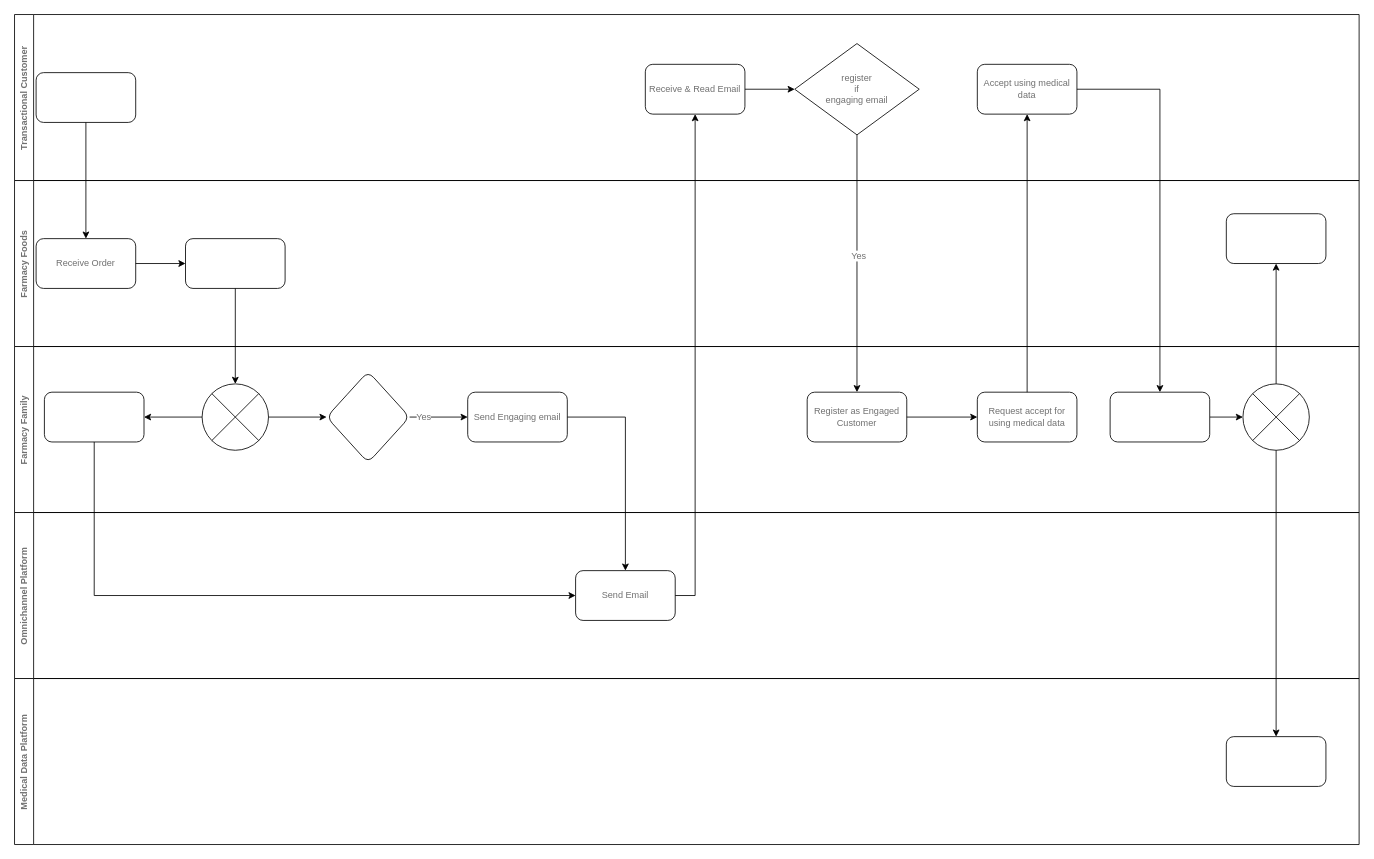
This 1374x859 diagram has some shape labels left out. The shapes that lost their labels are listed below. From the top down, each one's centre as x and y in pixels, then its label:
point 85,97: Make an order
point 1275,238: Notify about Customer's engaging
point 235,263: Notify about Customer's order
point 94,416: Send Confirmation email
point 368,417: Check if Engaged Customer
point 1159,416: Create record about engaged Customer
point 1275,761: Register connection with Customer
